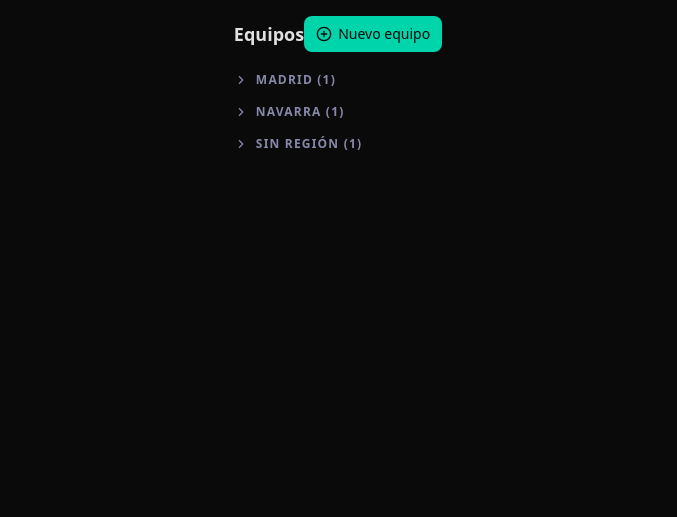
AdminEquiposPage › shows roster count per team
Click the button "Madrid (1)" at (338, 80), box left=234, top=68, right=442, bottom=92
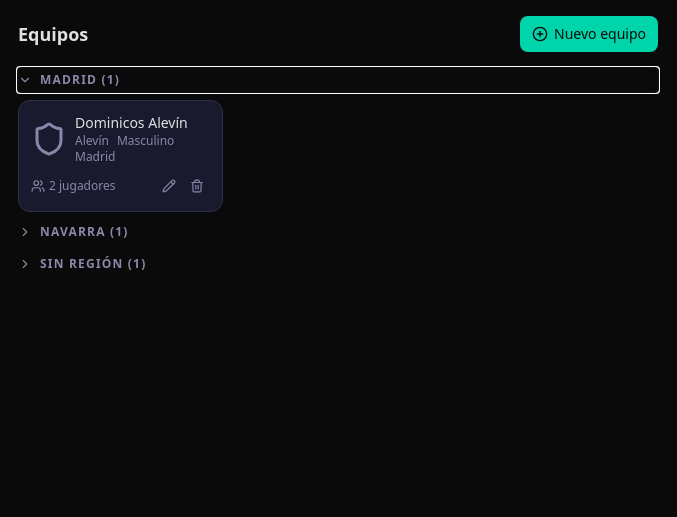
Click the button "Navarra (1)" at (73, 232), box left=18, top=220, right=658, bottom=244
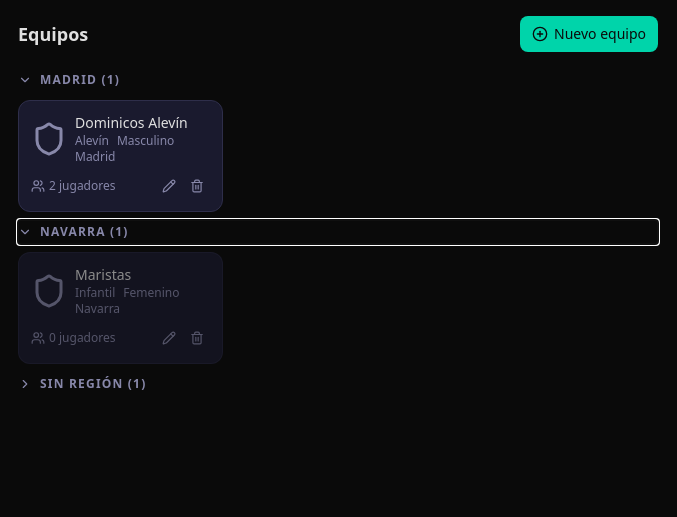
Click the button "Sin región (1)" at (82, 384), box left=18, top=372, right=658, bottom=396
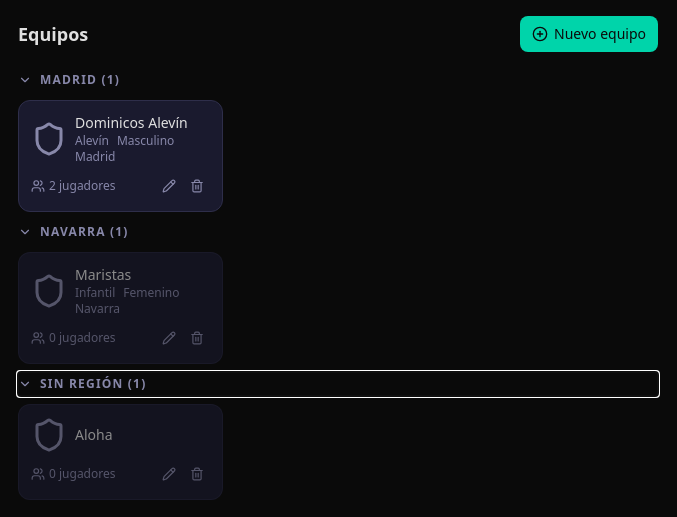
Result: the text "2 jugadores" is shown at left=49, top=178, right=116, bottom=194
Result: the text "0 jugadores" is shown 2 times at left=49, top=330, right=116, bottom=346; left=49, top=466, right=116, bottom=482
